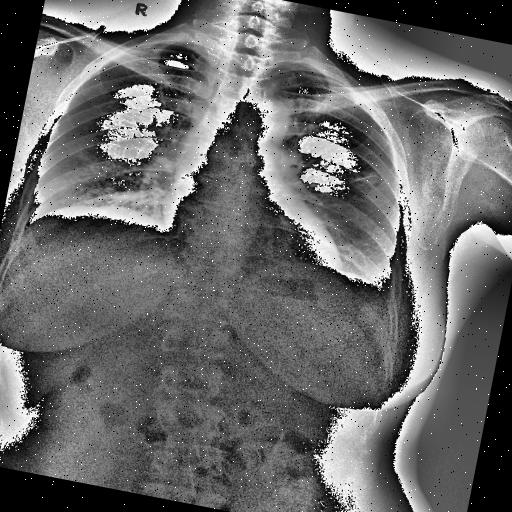0- Aortic enlargement: (234, 94, 291, 152), (240, 94, 296, 138)
10- Pleural effusion: (354, 260, 402, 308)
11- Pleural thickening: (354, 260, 402, 308)
13- Pulmonary fibrosis: (348, 167, 381, 188), (348, 168, 378, 187), (353, 169, 379, 186)
3- Cardiomegaly: (152, 187, 352, 285)
